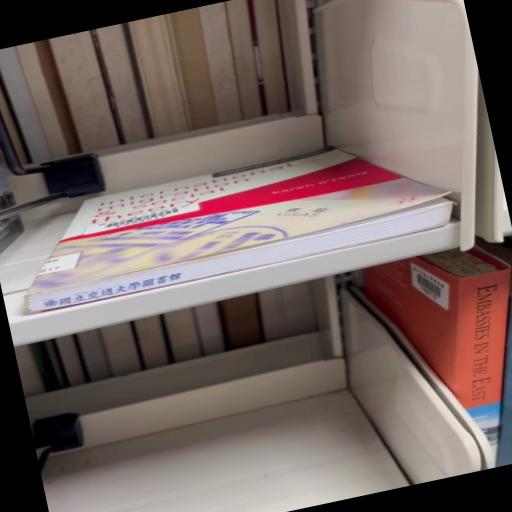flat: (24, 148, 450, 311)
